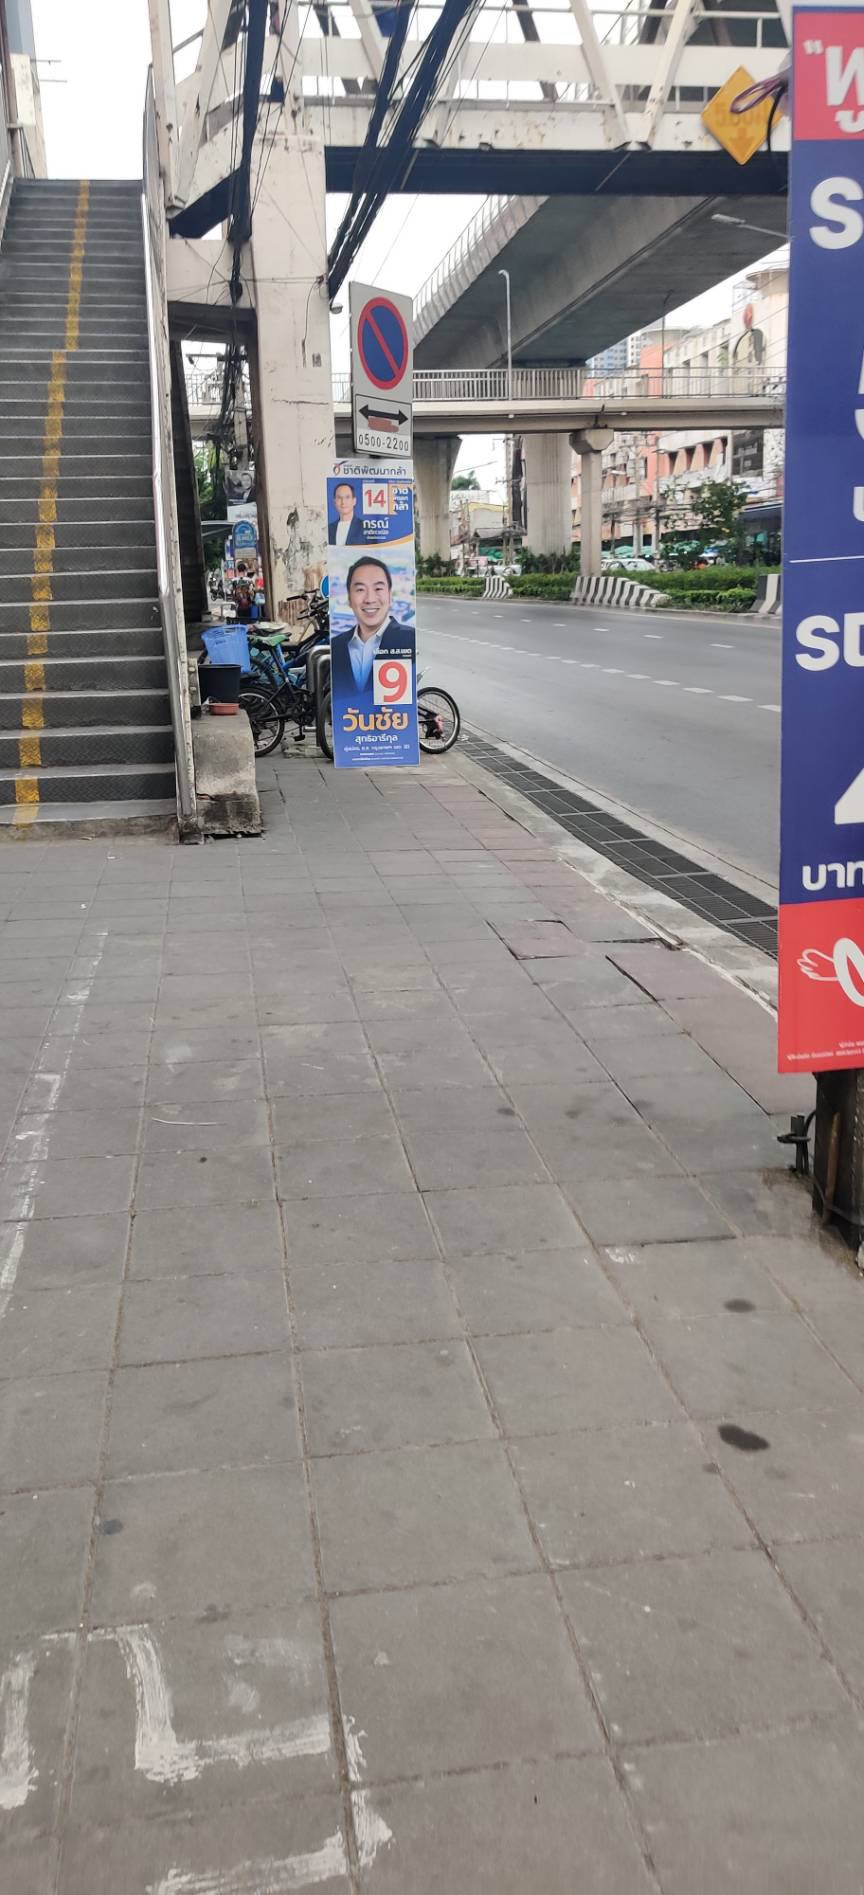Banner: (317, 453, 430, 776)
